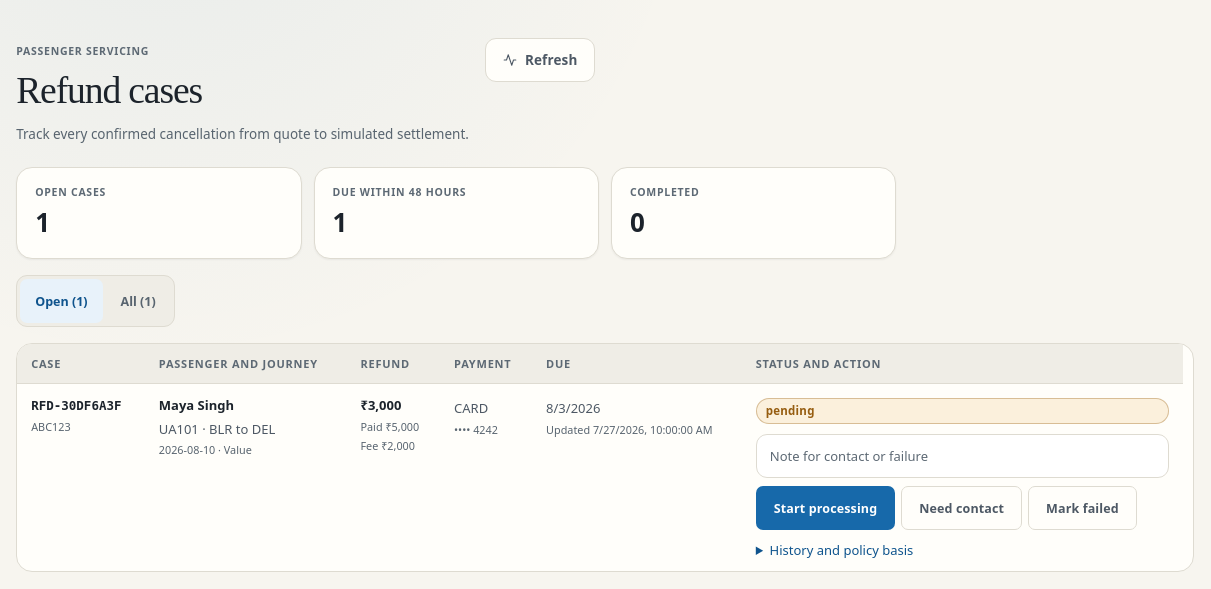
Test case: RefundQueue › shows governed refund details and refreshes the state after Staff starts work
Expected: the heading "Refund cases" is shown, [16,70,202,111]
Expected: the text "ABC123" is shown, [31,419,71,434]
Click the button "Start processing" at (826, 508), box [756,486,895,530]
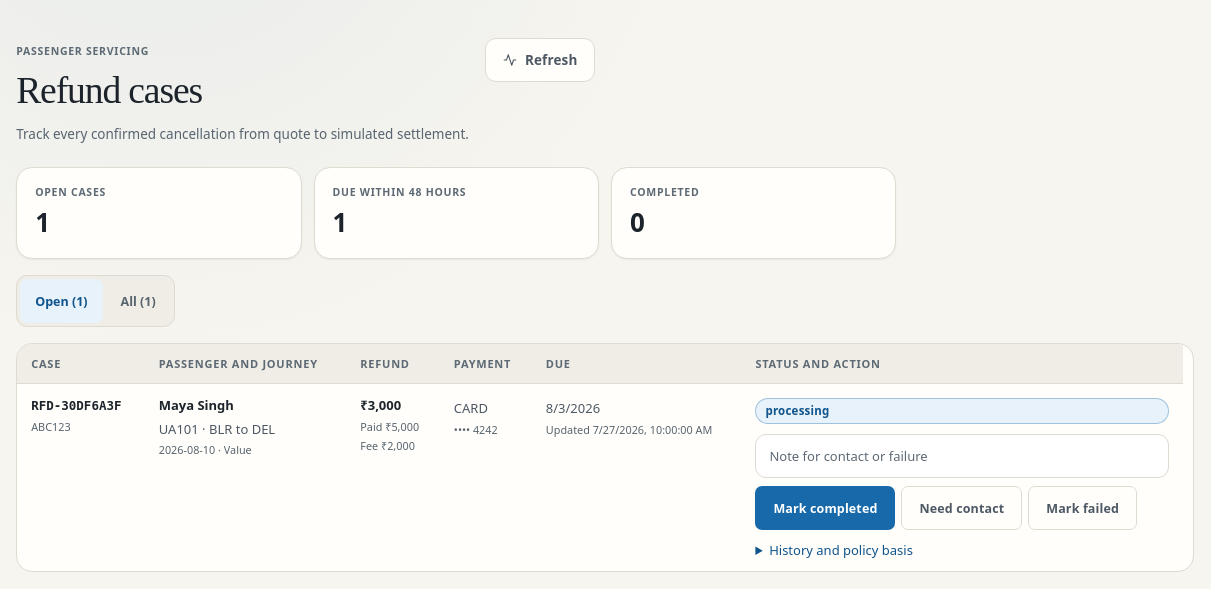
Expected: the text "processing" is shown, [755,398,1169,424]
Expected: the button "Mark completed" is shown, [755,486,895,530]
